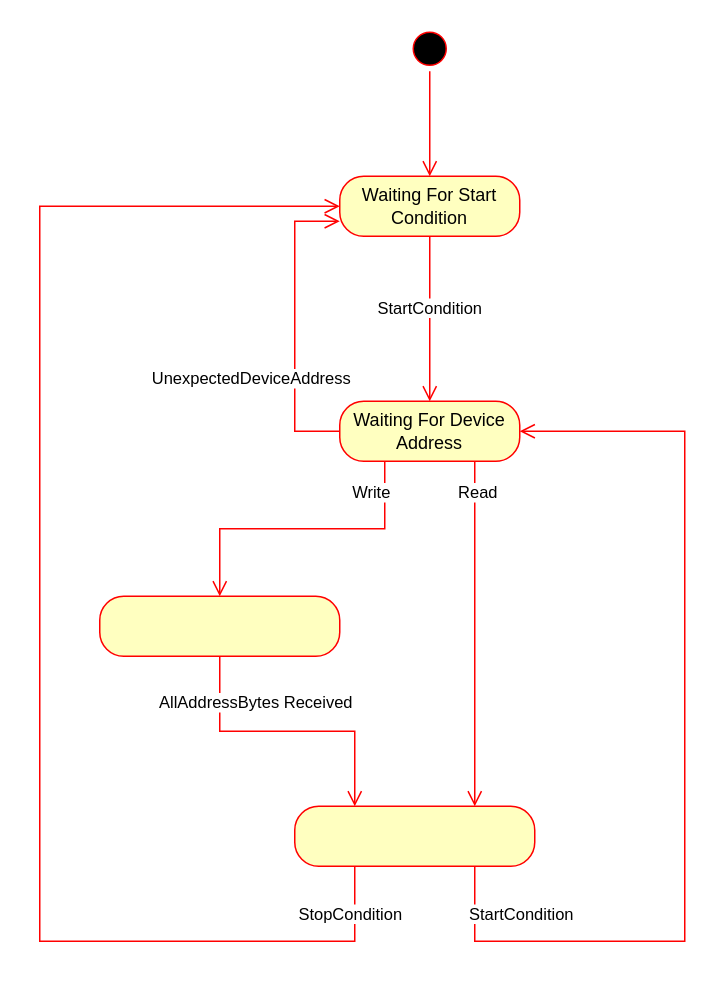
Image size: 726x983. Some labels were removed from this diagram. Here are the shapes that lost their labels. From the top down, the centre of each, then its label:
the point at 219,625: Write: Processing Data Address
the point at 414,835: Read/Write: Processing Data
